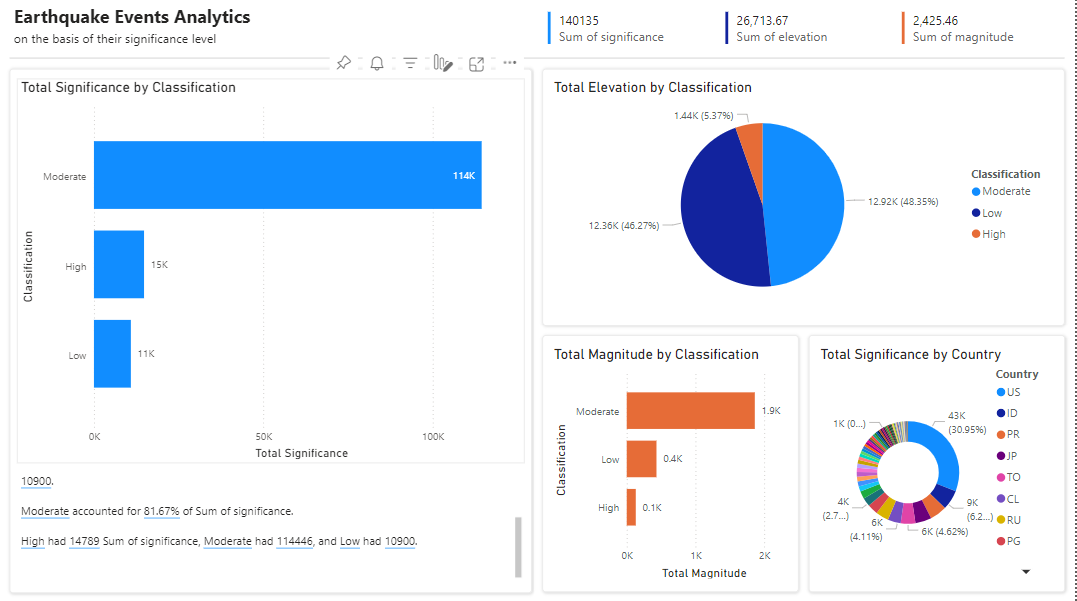

The dashboard page shown, as its layout file describes it:
{"tool":"powerbi","page":{"name":"Page 1","canvas":[1280,720],"ordinal":0},"visuals":[{"type":"shape","box":[12,58,1256,26],"z":0},{"type":"shape","box":[12,84,622,624],"z":1000},{"type":"shape","box":[646,84,622,306],"z":2000},{"type":"shape","box":[646,402,305,306],"z":3000},{"type":"shape","box":[963,402,305,306],"z":4000},{"type":"donutChart","fields":{"Category":["earthquake_events_gold.country_code"],"Y":["Sum(earthquake_events_gold.significance)"]},"box":[971,414,289,282],"z":5000},{"type":"clusteredBarChart","fields":{"Category":["earthquake_events_gold.significance_class"],"Y":["Sum(earthquake_events_gold.magnitude)"]},"box":[654,414,289,282],"z":6000},{"type":"pieChart","fields":{"Category":["earthquake_events_gold.significance_class"],"Y":["Sum(earthquake_events_gold.elevation)"]},"box":[654,96,606,282],"z":7000},{"type":"textbox","box":[20,566,606,129],"z":8000},{"type":"clusteredBarChart","fields":{"Category":["earthquake_events_gold.significance_class"],"Y":["Sum(earthquake_events_gold.significance)"]},"box":[20,96,606,458],"z":9000},{"type":"multiRowCard","fields":{"Values":["Sum(earthquake_events_gold.magnitude)"]},"box":[1069,12,199,50],"z":10000},{"type":"multiRowCard","fields":{"Values":["Sum(earthquake_events_gold.elevation)"]},"box":[858,12,199,50],"z":11000},{"type":"multiRowCard","fields":{"Values":["Sum(earthquake_events_gold.significance)"]},"box":[647,12,199,50],"z":12000},{"type":"textbox","box":[12,33,306,32],"z":13000},{"type":"textbox","box":[12,2,306,39],"z":14000}]}

Visuals, with their boxes on the page's 1280x720 design canvas (x1, y1, x2, y2). These are canvas units, not pixel positions in the 1077x601 screenshot, which may show the page scaled, cropped or inside an application window:
shape: region(12, 58, 1268, 84)
shape: region(12, 84, 634, 708)
shape: region(646, 84, 1268, 390)
shape: region(646, 402, 951, 708)
shape: region(963, 402, 1268, 708)
donutChart - earthquake_events_gold.country_code x Sum(earthquake_events_gold.significance): region(971, 414, 1260, 696)
clusteredBarChart - earthquake_events_gold.significance_class x Sum(earthquake_events_gold.magnitude): region(654, 414, 943, 696)
pieChart - earthquake_events_gold.significance_class x Sum(earthquake_events_gold.elevation): region(654, 96, 1260, 378)
textbox: region(20, 566, 626, 695)
clusteredBarChart - earthquake_events_gold.significance_class x Sum(earthquake_events_gold.significance): region(20, 96, 626, 554)
multiRowCard - Sum(earthquake_events_gold.magnitude): region(1069, 12, 1268, 62)
multiRowCard - Sum(earthquake_events_gold.elevation): region(858, 12, 1057, 62)
multiRowCard - Sum(earthquake_events_gold.significance): region(647, 12, 846, 62)
textbox: region(12, 33, 318, 65)
textbox: region(12, 2, 318, 41)
